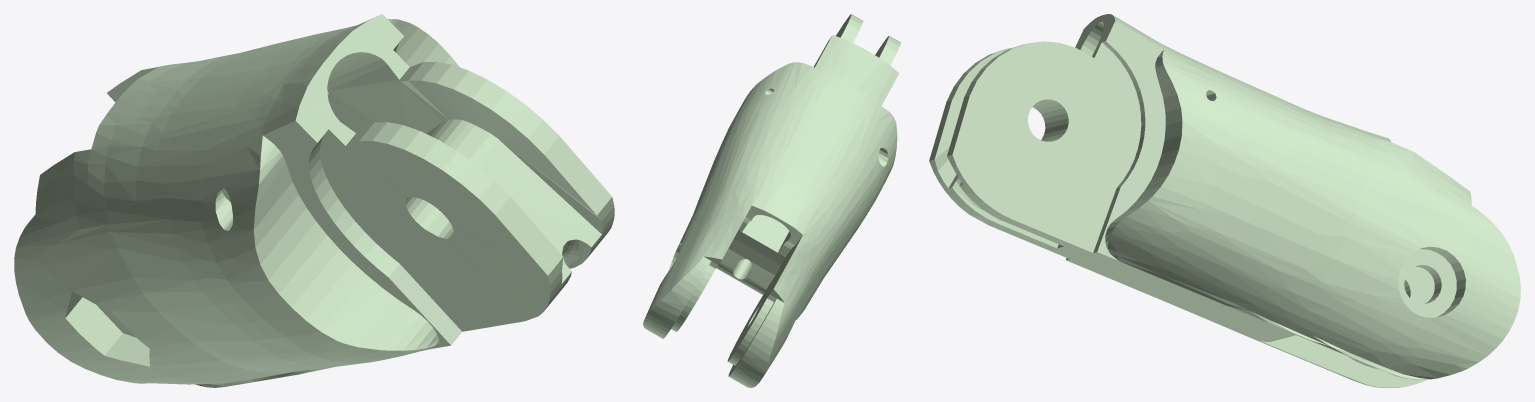
Rendered from i02_rightHand_indexPhal_visual.obj.balanced.glb.
3 renders of one model, left to right at view 1: azimuth 30°, elevation 25°; view 2: azimuth 150°, elevation 25°; view 3: azimuth 270°, elevation 25°, orthographic. The views are drawn at different scales.
Bounding box in the file's own units: 0.2047 × 0.3471 × 0.4992.
